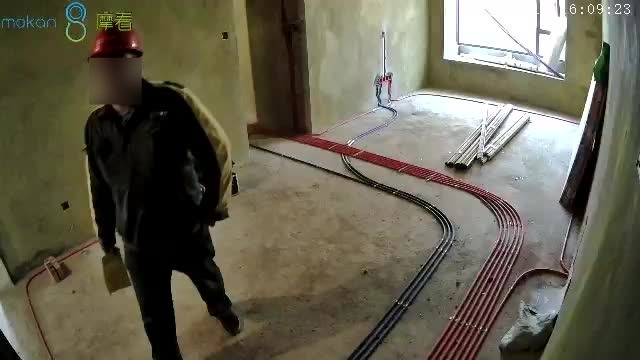people: (83, 24, 239, 360)
window: (455, 1, 566, 76)
